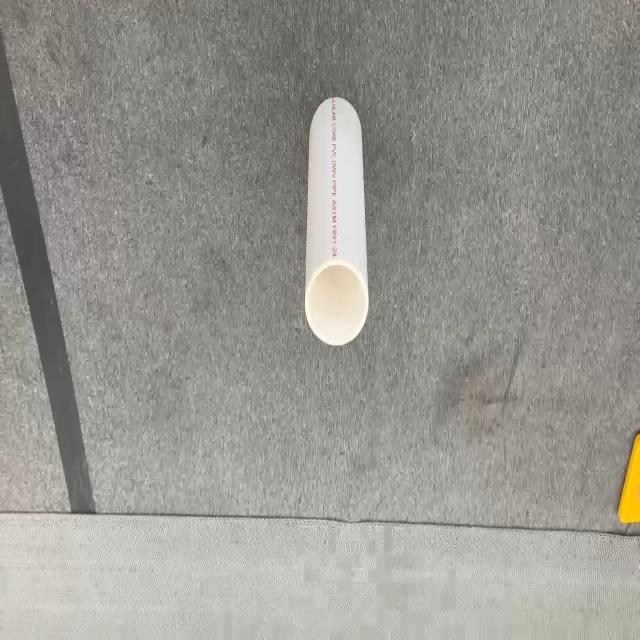coral: (304, 94, 369, 346)
